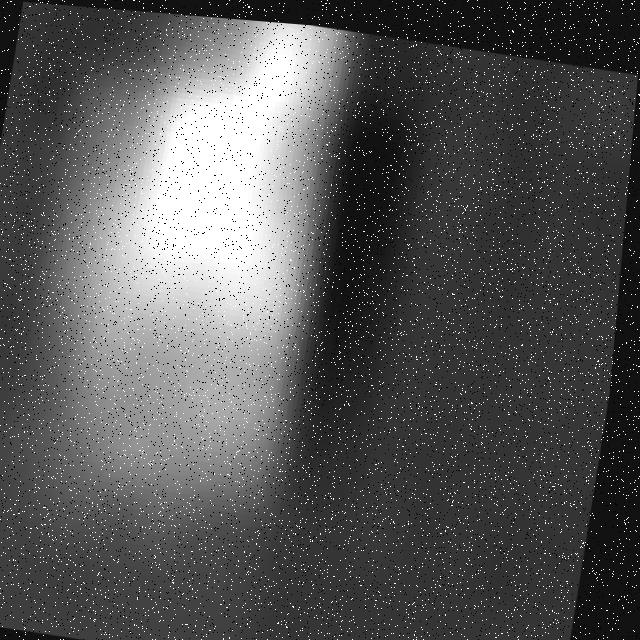person: (1, 1, 369, 586)
